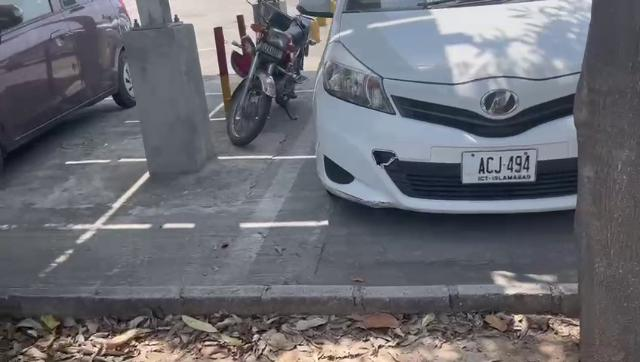plate: (462, 150, 538, 182)
